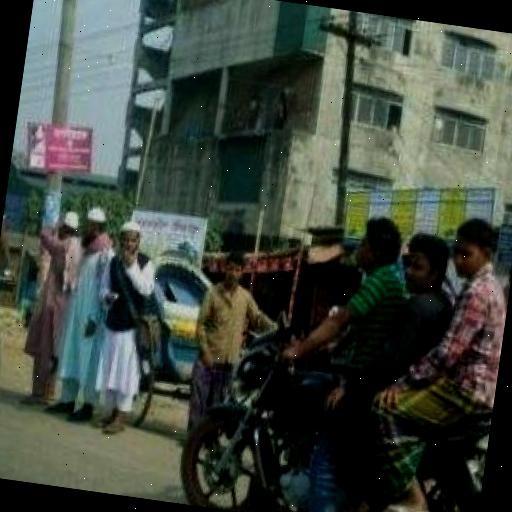no helmet: (326, 204, 408, 283)
triple riding: (151, 177, 512, 512)
